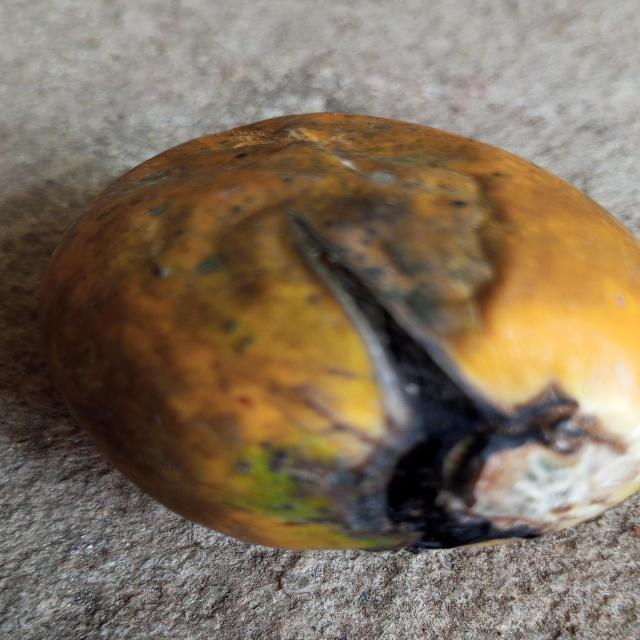damaged: (42, 114, 640, 550)
